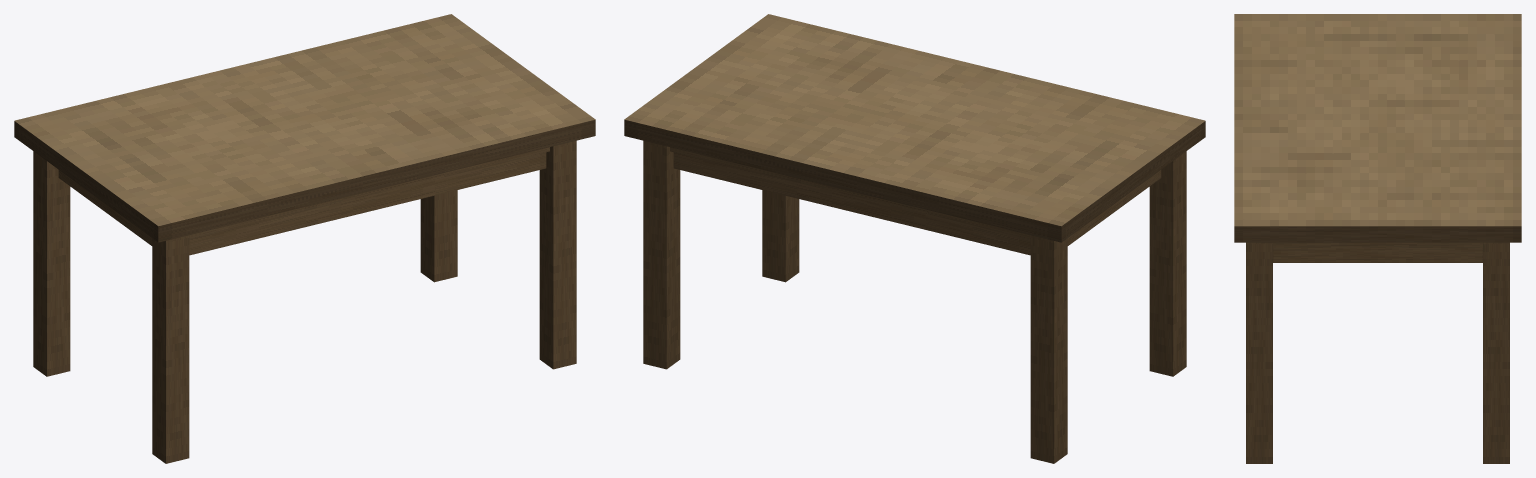
Rendered from table.glb.
3 views of the same model, side by side, from view 1: azimuth 30°, elevation 25°; view 2: azimuth 150°, elevation 25°; view 3: azimuth 270°, elevation 25° (orthographic).
Parts seen in each view (by area): view 1: core_table; view 2: core_table; view 3: core_table.
Boxes of the visible parts, box(x1,y1,x2,y2) form: core_table: box(14, 14, 595, 463); core_table: box(624, 14, 1205, 463); core_table: box(1234, 14, 1521, 463).
Size of the model in its own units: 1.4 by 0.75 by 0.8.
Materials: 1 (1 with a texture image).
